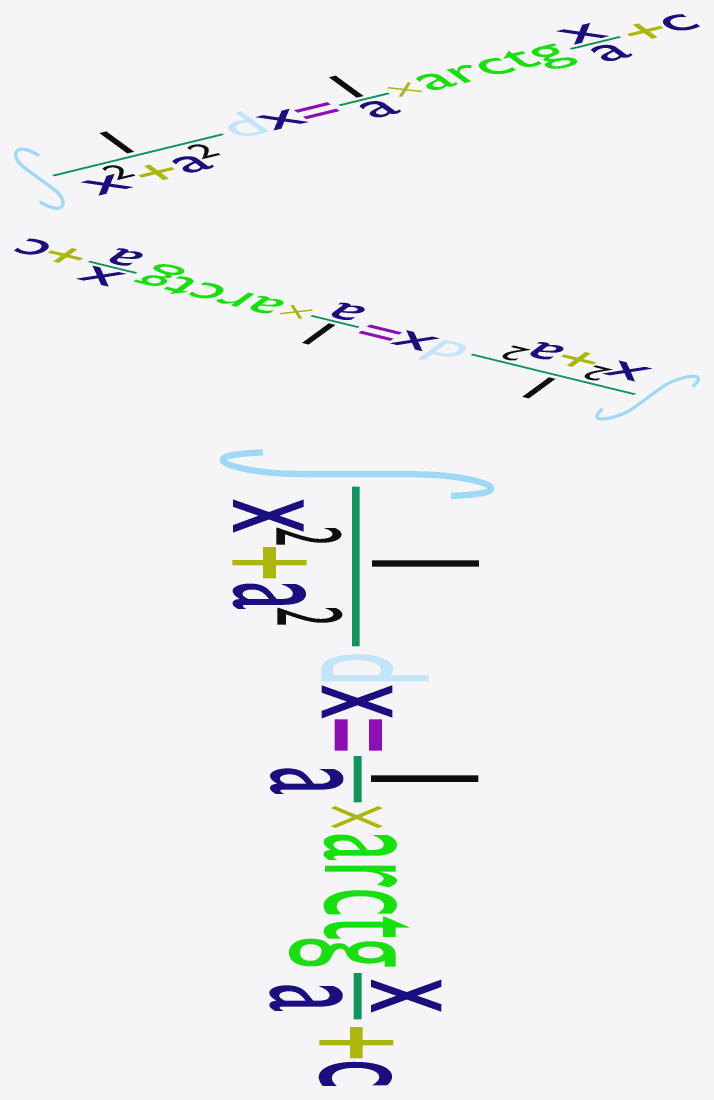
Rendered from int1pexla2plusala2.glb.
3 renders of one model, top to bottom at view 1: azimuth 30°, elevation 25°; view 2: azimuth 150°, elevation 25°; view 3: azimuth 270°, elevation 25°, orthographic. The views are drawn at different scales.
Parts seen in each view (by area): view 1: int din 1 pe x la 2 plus a la 2 dx; view 2: int din 1 pe x la 2 plus a la 2 dx; view 3: int din 1 pe x la 2 plus a la 2 dx.
Part boxes in pixels (x1,y1,x2,y2): int din 1 pe x la 2 plus a la 2 dx: (14, 14, 699, 209); int din 1 pe x la 2 plus a la 2 dx: (14, 238, 699, 420); int din 1 pe x la 2 plus a la 2 dx: (220, 449, 493, 1085).
Bounding box in the file's own units: 9.56 × 0.0401 × 1.75.
